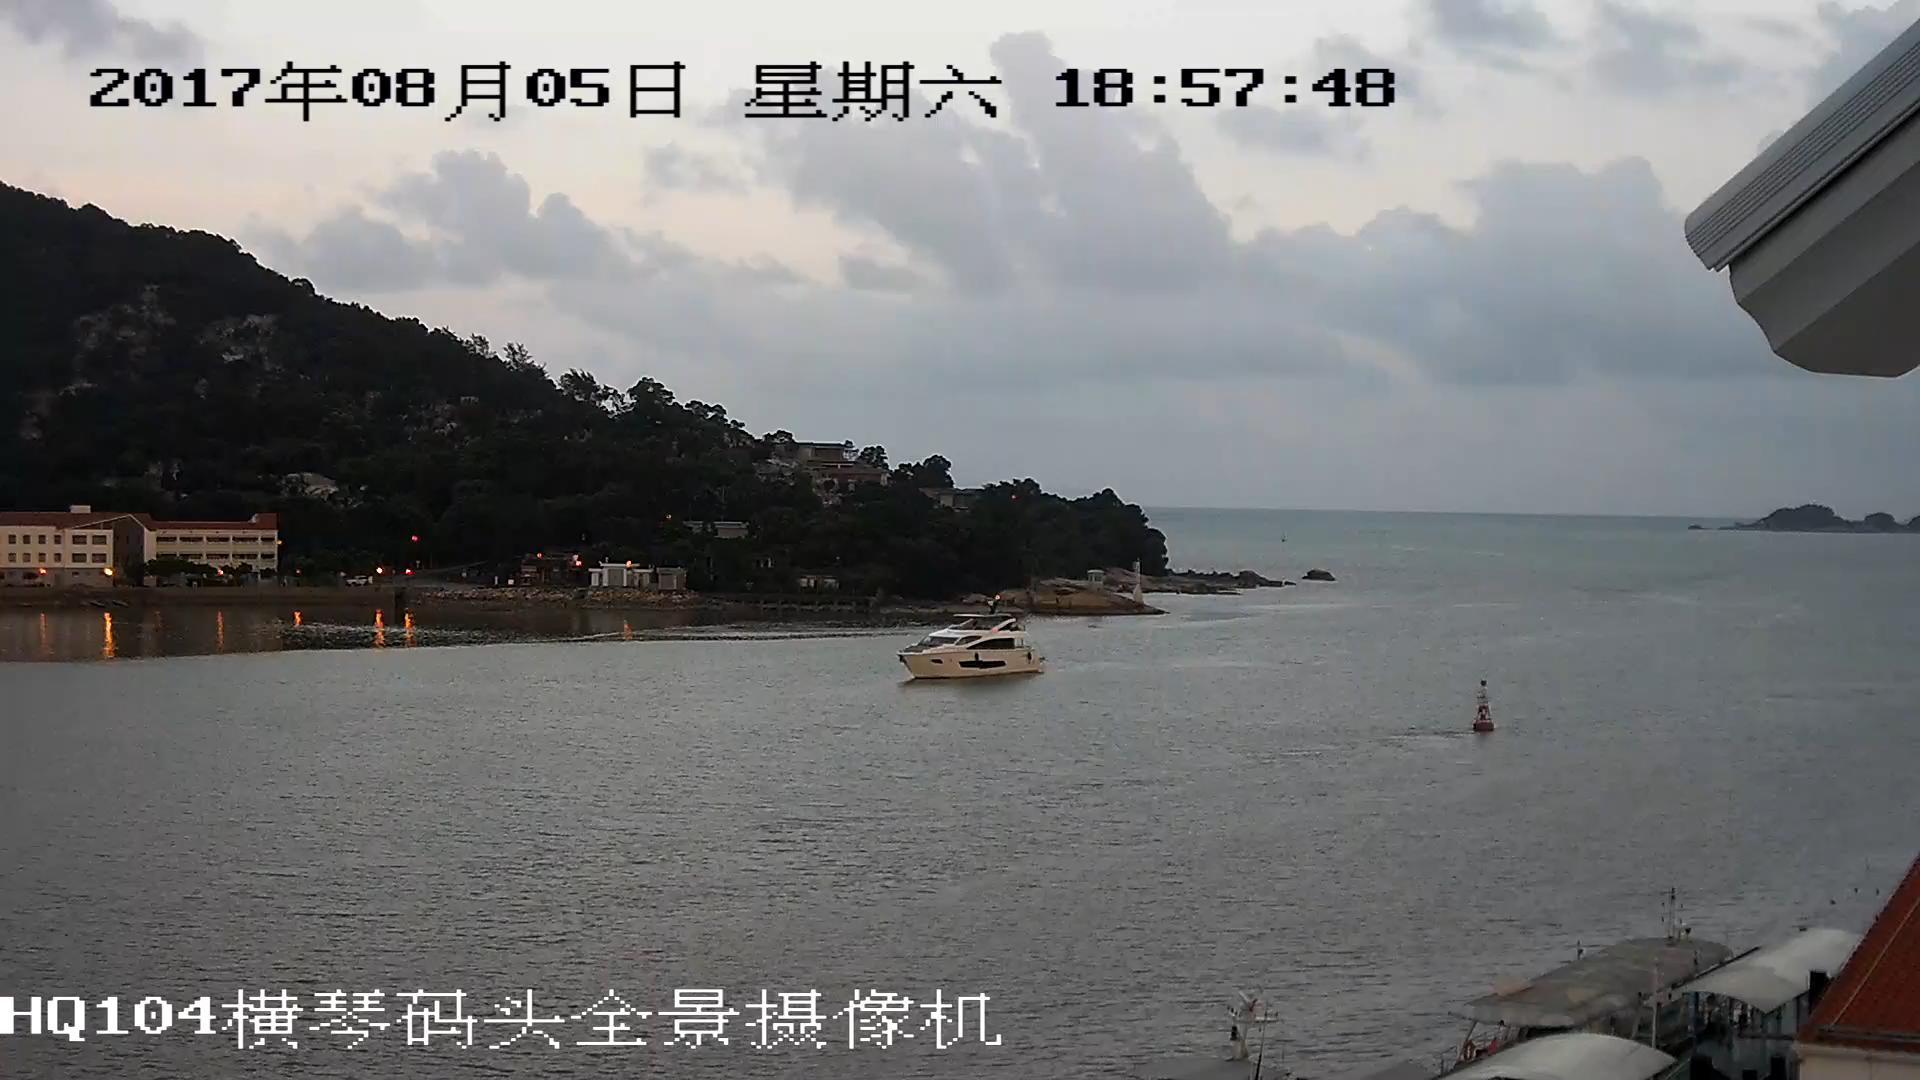passenger ship: (902, 610, 1038, 676)
